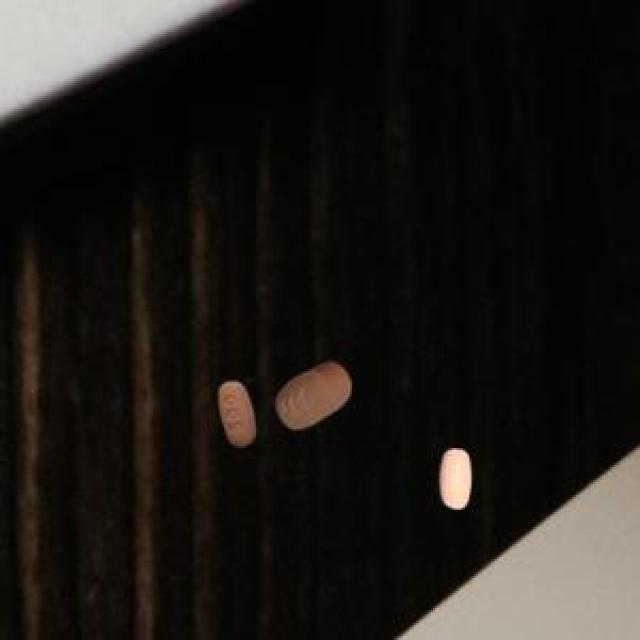Biogesic: (273, 347, 355, 436), (201, 359, 260, 460), (433, 432, 479, 522)
